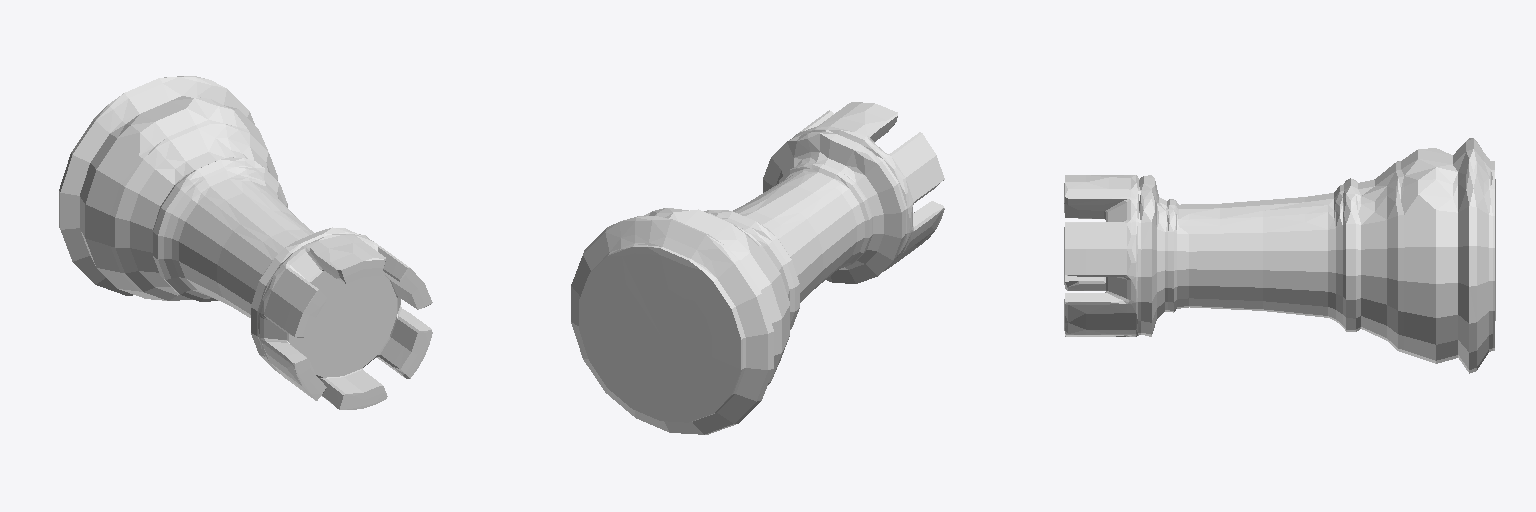
3 views of the same model, side by side, from view 1: azimuth 30°, elevation 25°; view 2: azimuth 150°, elevation 25°; view 3: azimuth 270°, elevation 25° (orthographic).
Parts seen in each view (by area): view 1: 12934_Wooden_Chess_Rook_Side_B_V2_L3; view 2: 12934_Wooden_Chess_Rook_Side_B_V2_L3; view 3: 12934_Wooden_Chess_Rook_Side_B_V2_L3.
Part boxes in pixels (left/top/right/bottom): 12934_Wooden_Chess_Rook_Side_B_V2_L3: left=59, top=76, right=432, bottom=409; 12934_Wooden_Chess_Rook_Side_B_V2_L3: left=571, top=102, right=944, bottom=434; 12934_Wooden_Chess_Rook_Side_B_V2_L3: left=1064, top=138, right=1495, bottom=373.
Size of the model in its own units: 1.14 by 1.16 by 2.11.
Materials: 1 (1 with a texture image).